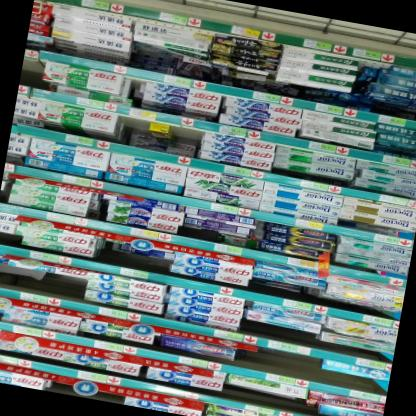empty_space: (251, 336, 320, 381), (18, 48, 41, 88)
